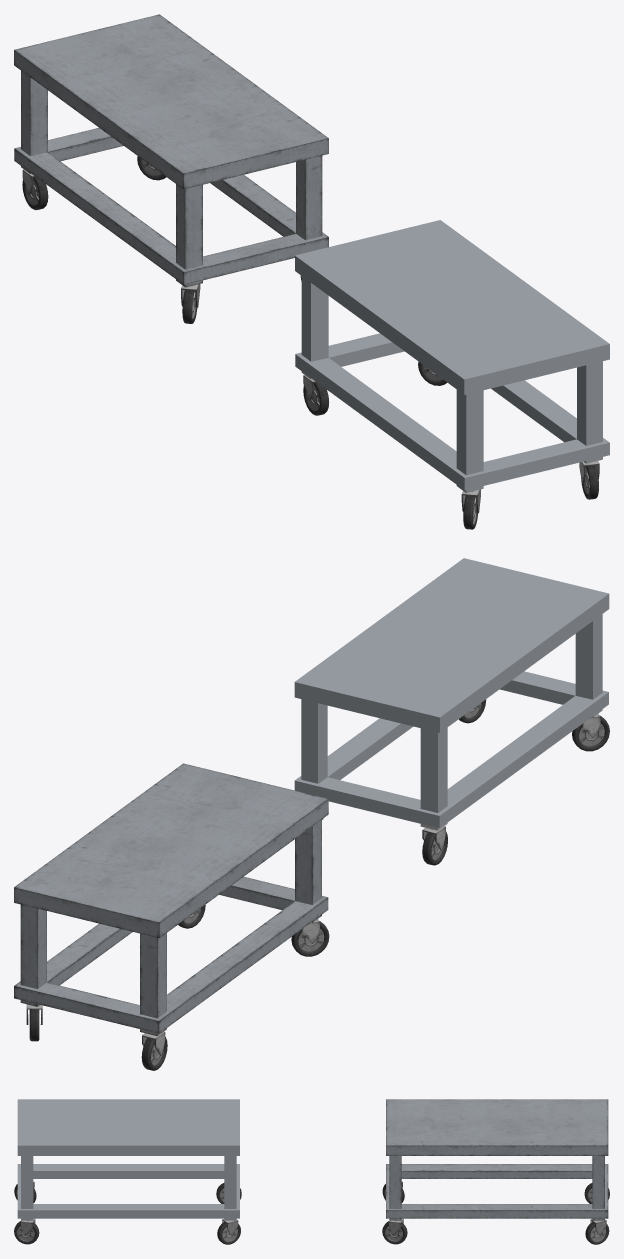
The model's file is tool_trolleys.glb.
3 views of the same model, one above another, from view 1: azimuth 30°, elevation 25°; view 2: azimuth 150°, elevation 25°; view 3: azimuth 270°, elevation 25° (orthographic). The views are drawn at different scales.
Parts seen in each view (by area): view 1: SM_Tool_table_chassis.001, SM_Tool_table_chassis; view 2: SM_Tool_table_chassis, SM_Tool_table_chassis.001, Cylinder.072, Cylinder.030; view 3: SM_Tool_table_chassis, SM_Tool_table_chassis.001, Cylinder.032, Cylinder.074, Cylinder.031, Cylinder.073.
Part boxes in pixels (x1,y1,x2,y2): SM_Tool_table_chassis.001: [295, 220, 609, 492]; SM_Tool_table_chassis: [14, 14, 328, 287]; SM_Tool_table_chassis: [14, 763, 328, 1035]; SM_Tool_table_chassis.001: [294, 558, 609, 830]; Cylinder.072: [572, 716, 609, 751]; Cylinder.030: [291, 921, 329, 956]; SM_Tool_table_chassis: [386, 1099, 608, 1220]; SM_Tool_table_chassis.001: [17, 1099, 239, 1220]; Cylinder.032: [382, 1221, 407, 1244]; Cylinder.074: [14, 1221, 39, 1244]; Cylinder.031: [585, 1221, 609, 1244]; Cylinder.073: [217, 1221, 240, 1244].
Size of the model in its own units: 0.9532 by 0.969 by 5.13.
2 materials, 2 textured.
